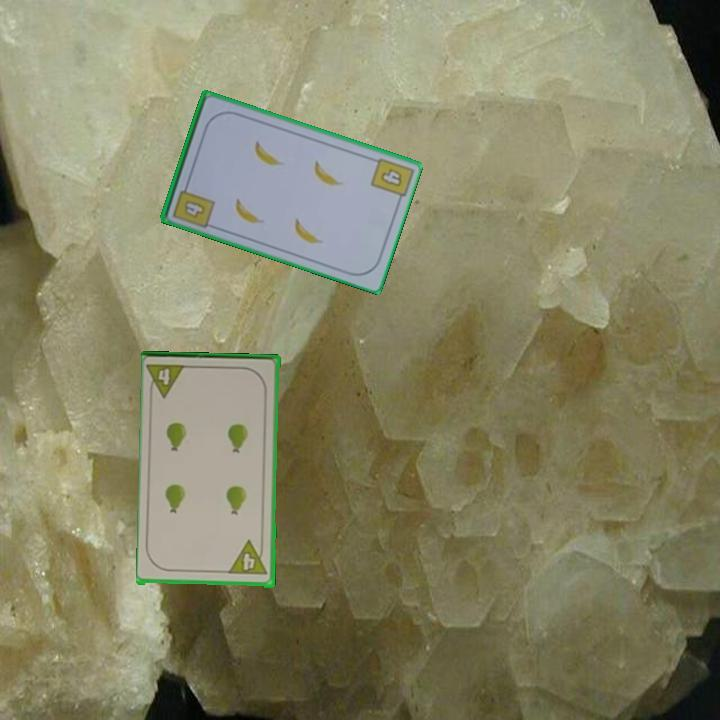4b: (169, 178, 217, 231), (377, 165, 405, 189)
4p: (145, 360, 190, 401), (226, 538, 271, 578)
